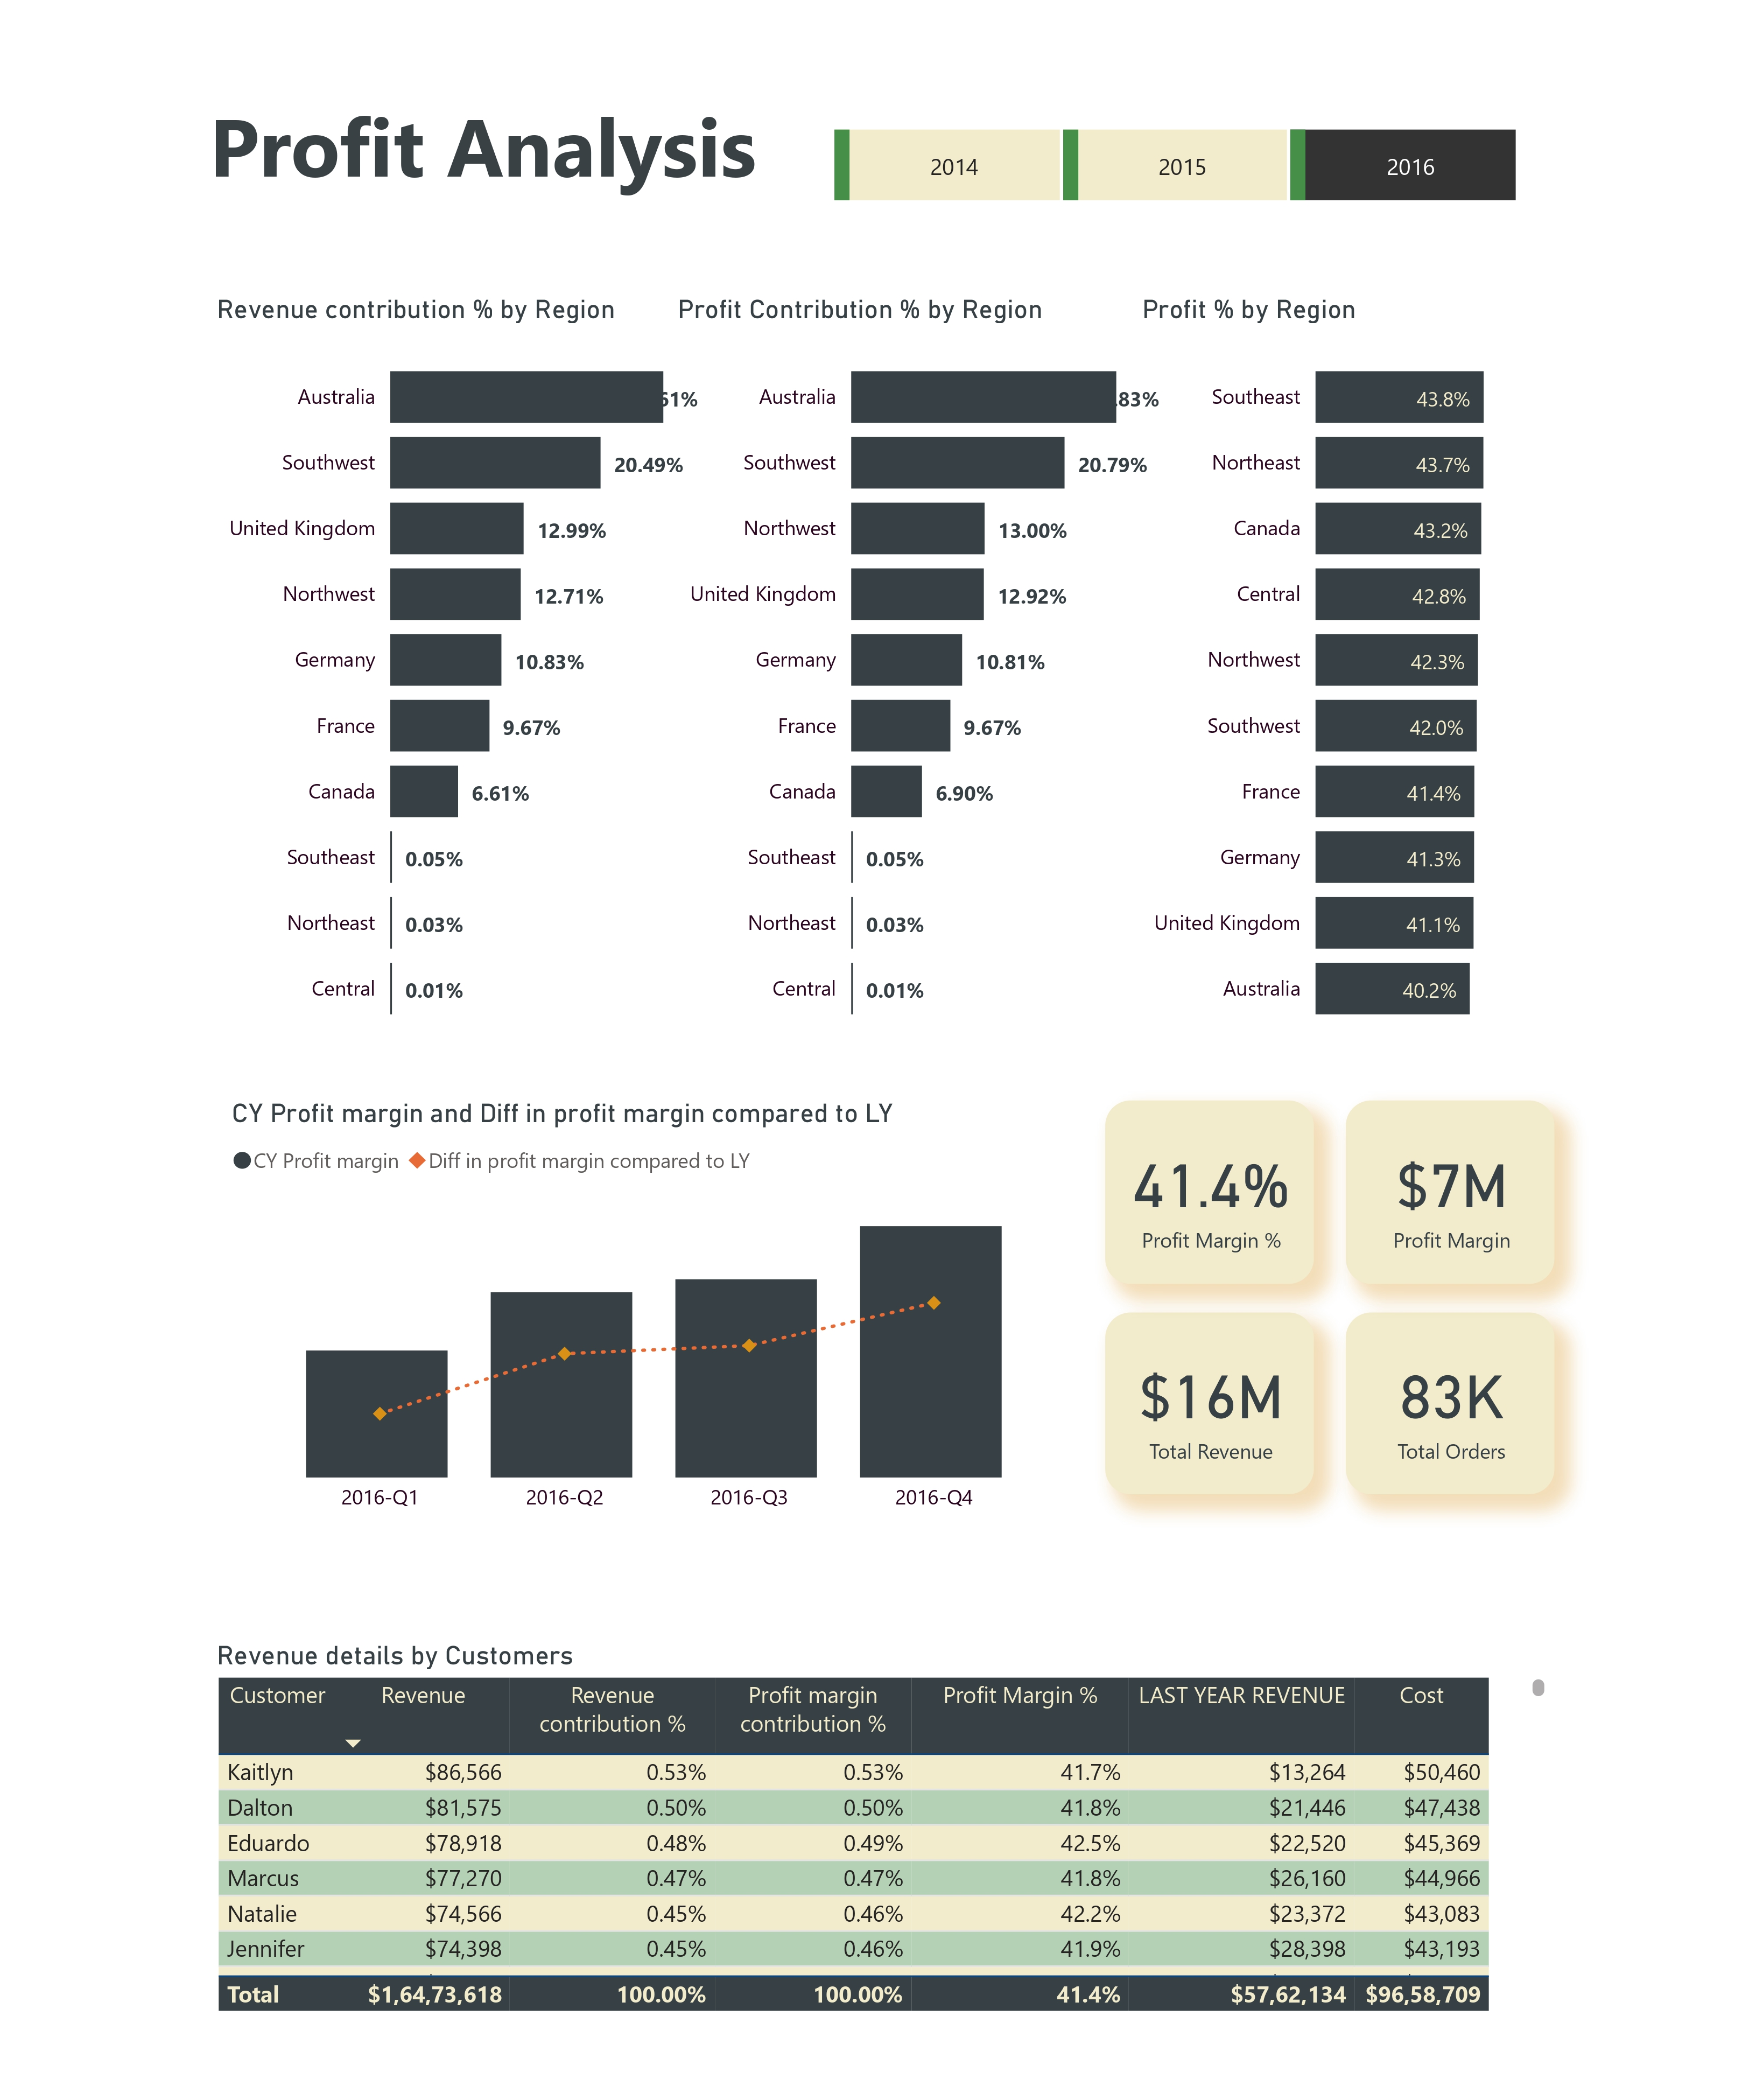

The page's visual inventory and layout, read from the dashboard file:
{"tool":"powerbi","page":{"name":"Profit Analysis","canvas":[1000,1200],"ordinal":1},"visuals":[{"type":"card","fields":{"Values":["BaseMeasure.Revenue"]},"box":[633,756,124,108],"z":0},{"type":"card","fields":{"Values":["BaseMeasure.Sales Qty"]},"box":[776,756,124,108],"z":1000},{"type":"card","fields":{"Values":["BaseMeasure.Total Profit Margin"]},"box":[775.7,630,124.3,108.6],"z":2000},{"type":"barChart","title":"Profit Contribution % by Region","fields":{"Category":["Territories.Region"],"Y":["BaseMeasure.Profit margin contribution %"]},"box":[373.8,150,296,450],"z":3000},{"type":"barChart","fields":{"Category":["Territories.Region"],"Y":["BaseMeasure.Revenue contribution %"]},"box":[100,150,296,450],"z":4000},{"type":"barChart","title":"Profit % by Region","fields":{"Category":["Territories.Region"],"Y":["BaseMeasure.Profit Margin %"]},"box":[650,150,250,450],"z":5000},{"type":"tableEx","title":"Revenue details by Customers","fields":{"Values":["Customer.FirstName","BaseMeasure.Revenue","BaseMeasure.Revenue contribution %","BaseMeasure.Profit margin contribution %","BaseMeasure.Profit Margin %","BaseMeasure.LAST YEAR REVENUE","BaseMeasure.Cost"]},"box":[100,950,800,226],"z":6000},{"type":"lineClusteredColumnComboChart","title":"CY Profit margin and Diff in profit margin compared to LY","fields":{"Category":["Calender_2.Year_Quarter"],"Y":["BaseMeasure.Total Profit Margin"],"Y2":["BaseMeasure.diff profit margin"]},"box":[108.8,627.5,515,256.2],"z":7000},{"type":"textbox","box":[80,24.3,365.7,110],"z":8000},{"type":"card","fields":{"Values":["BaseMeasure.Profit Margin %"]},"box":[632.9,630,124.3,108.6],"z":9000},{"type":"slicer","fields":{"Values":["Calender_2.Year"]},"box":[446.2,46.2,454.6,56.2],"z":10000}]}

Visuals, with their boxes on the page's 1000x1200 design canvas (x1, y1, x2, y2). These are canvas units, not pixel positions in the 1763x2100 screenshot, which may show the page scaled, cropped or inside an application window:
card - BaseMeasure.Revenue: l=633, t=756, r=757, b=864
card - BaseMeasure.Sales Qty: l=776, t=756, r=900, b=864
card - BaseMeasure.Total Profit Margin: l=776, t=630, r=900, b=739
"Profit Contribution % by Region" barChart: l=374, t=150, r=670, b=600
barChart - Territories.Region x BaseMeasure.Revenue contribution %: l=100, t=150, r=396, b=600
"Profit % by Region" barChart: l=650, t=150, r=900, b=600
"Revenue details by Customers" tableEx: l=100, t=950, r=900, b=1176
"CY Profit margin and Diff in profit margin compared to LY" lineClusteredColumnComboChart: l=109, t=628, r=624, b=884
textbox: l=80, t=24, r=446, b=134
card - BaseMeasure.Profit Margin %: l=633, t=630, r=757, b=739
slicer - Calender_2.Year: l=446, t=46, r=901, b=102
